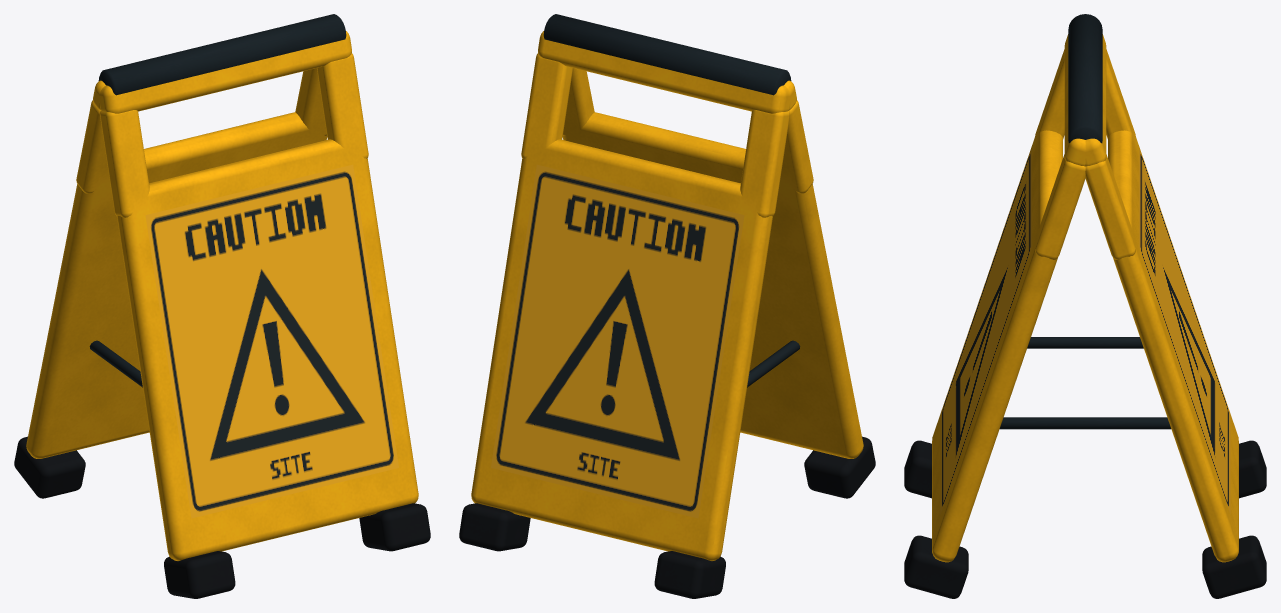
File: CSE_CautionSign.fbx
The picture shows the model from 3 angles, left to right: view 1: azimuth 30°, elevation 25°; view 2: azimuth 150°, elevation 25°; view 3: azimuth 270°, elevation 25°; orthographic projection.
Visible parts, largest first — view 1: CSE_CautionSign; view 2: CSE_CautionSign; view 3: CSE_CautionSign.
Part boxes in pixels (x1=…): CSE_CautionSign: x1=14, y1=14, x2=430, y2=598; CSE_CautionSign: x1=459, y1=14, x2=875, y2=598; CSE_CautionSign: x1=904, y1=14, x2=1266, y2=598.
Size of the model in its own units: 38.2 by 70.24 by 48.73.
